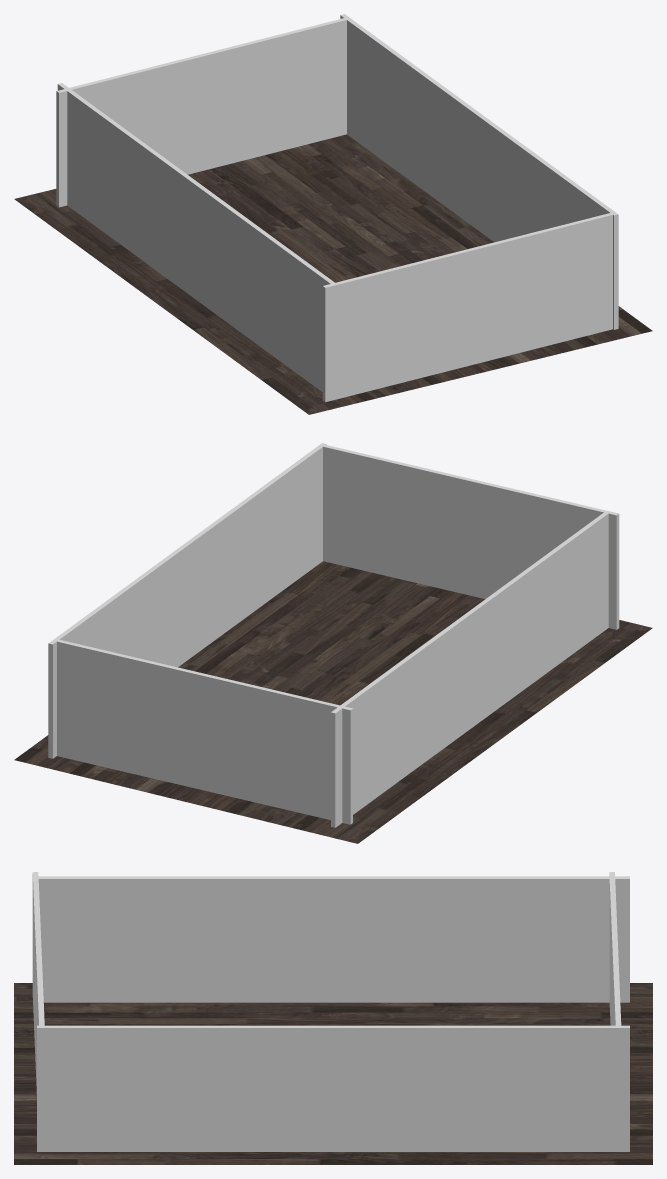
File: room.glb
The picture shows the model from 3 angles, top to bottom: view 1: azimuth 30°, elevation 25°; view 2: azimuth 150°, elevation 25°; view 3: azimuth 270°, elevation 25°; orthographic projection. The views are drawn at different scales.
Visible parts, largest first — view 1: Plane, Cube.002, Cube, Cube.003, Cube.001; view 2: Plane, Cube.003, Cube, Cube.002, Cube.001; view 3: Cube.001, Cube, Plane, Cube.002, Cube.003.
Part boxes in pixels (x1,y1,x2,y2): Plane: (14,134,652,414); Cube.002: (322,213,614,402); Cube: (57,83,334,391); Cube.003: (56,17,348,207); Cube.001: (340,14,618,329); Plane: (14,561,652,843); Cube.003: (53,639,352,824); Cube: (331,512,608,827); Cube.002: (322,445,619,629); Cube.001: (48,443,326,758); Cube.001: (37,1025,629,1151); Cube: (37,876,629,1002); Plane: (14,983,652,1164); Cube.002: (32,872,44,1093); Cube.003: (609,872,621,1027).
Bounding box in the file's own units: 30.35 × 9.67 × 45.1.
2 materials, 1 textured.
